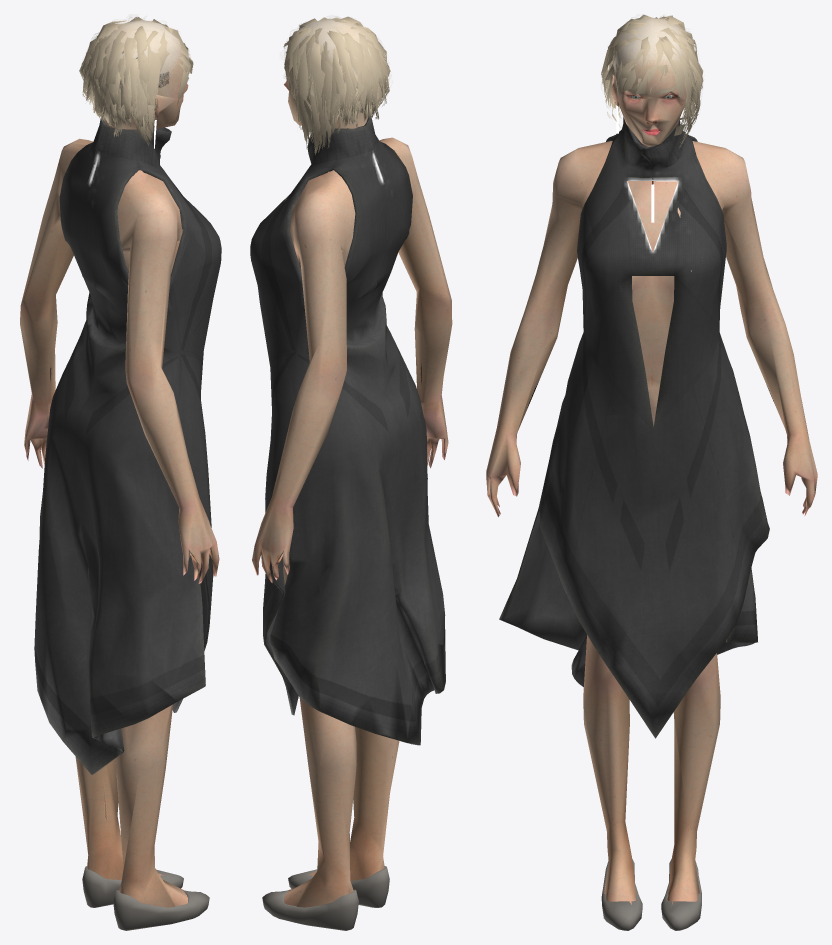
File: estatua.glb
3 renders of one model, left to right at view 1: azimuth 30°, elevation 25°; view 2: azimuth 150°, elevation 25°; view 3: azimuth 270°, elevation 25°, orthographic.
Visible parts, largest first — view 1: Object_3, Object_2, Object_14, Object_15; view 2: Object_3, Object_2, Object_14, Object_15; view 3: Object_3, Object_2, Object_14.
Boxes of the visible parts, box(x1,y1,x2,y2) form: Object_3: box(34, 118, 221, 930); Object_2: box(20, 20, 219, 907); Object_14: box(79, 16, 193, 145); Object_15: box(85, 15, 190, 116); Object_3: box(250, 116, 445, 930); Object_2: box(252, 18, 452, 907); Object_14: box(283, 16, 390, 155); Object_15: box(284, 15, 389, 117); Object_3: box(499, 117, 769, 930); Object_2: box(486, 17, 817, 905); Object_14: box(601, 14, 703, 147).
Size of what is drawn, in the model's own units: 0.3222 by 1.93 by 0.654.
11 materials, 7 textured.
